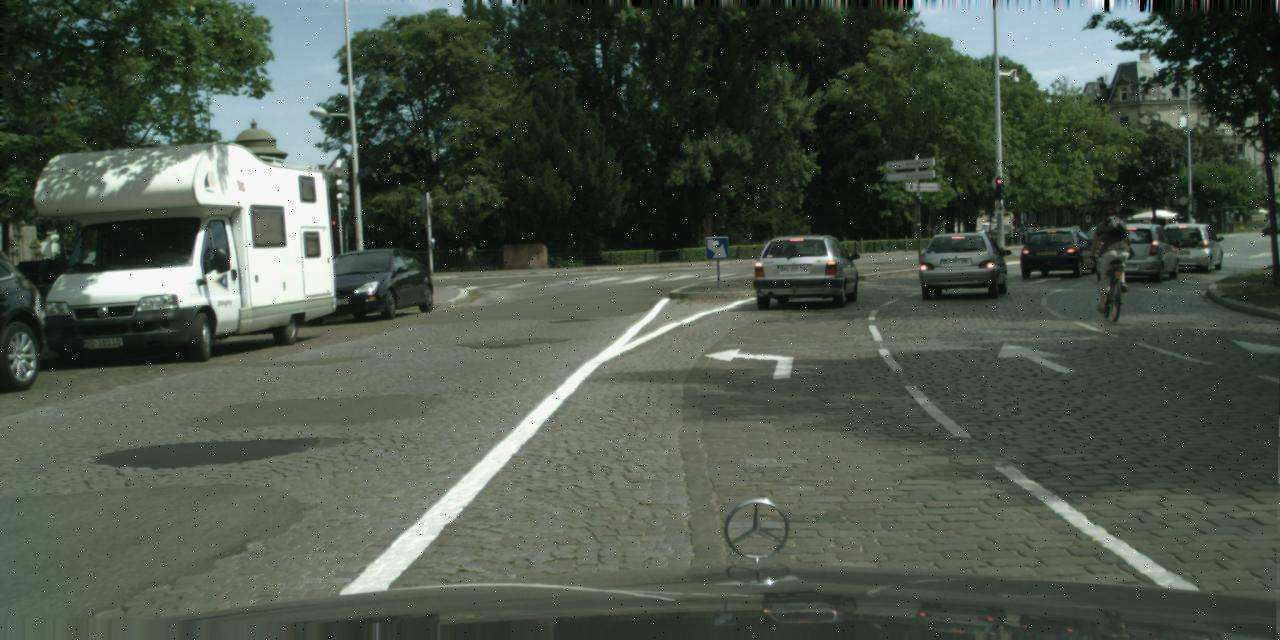ped: (1092, 207, 1133, 309), (1032, 223, 1042, 244), (1044, 223, 1052, 244), (1017, 224, 1025, 243)
